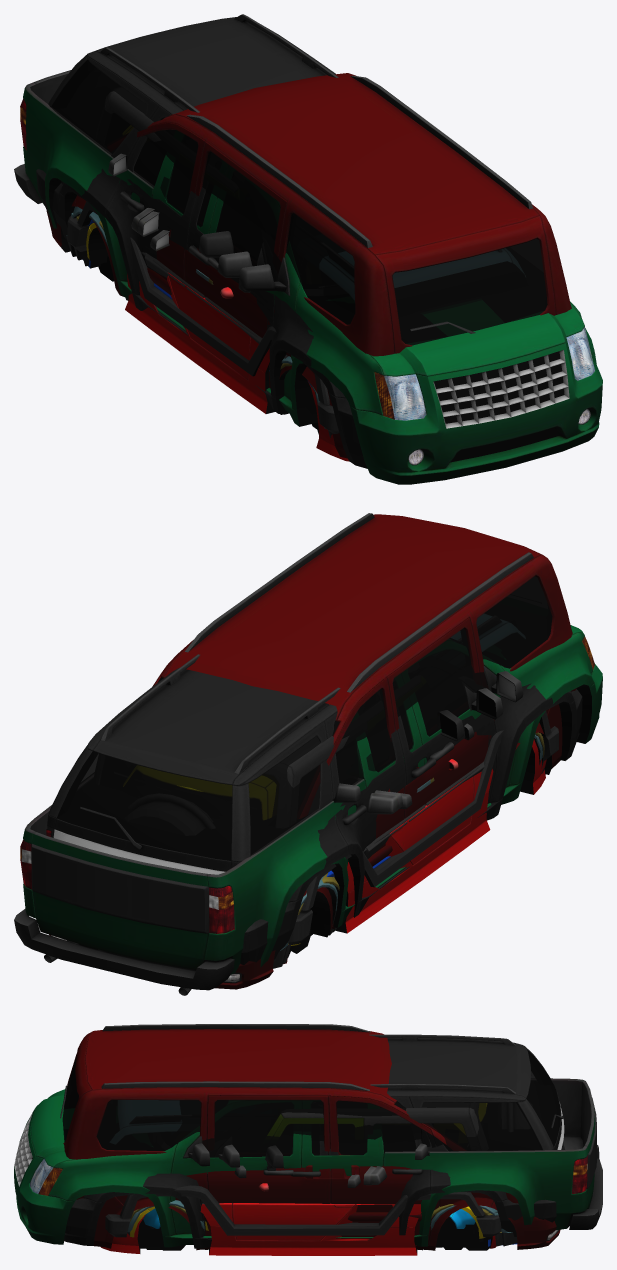
The model's file is civil_cars.glb.
The picture shows the model from 3 angles, top to bottom: view 1: azimuth 30°, elevation 25°; view 2: azimuth 150°, elevation 25°; view 3: azimuth 270°, elevation 25°; orthographic projection. The views are drawn at different scales.
Visible parts, largest first — view 1: item_3_minivan_body, item_5_Pickup_Body, item_8_SUV_Body, item_7_Sport_body, item_4_Offroad_Body, item_9_Wagon_Body, item_2_Hatchback_Body; view 2: item_3_minivan_body, item_8_SUV_Body, item_5_Pickup_Body, item_4_Offroad_Body, item_7_Sport_body, item_2_Hatchback_Body, item_9_Wagon_Body; view 3: item_3_minivan_body, item_5_Pickup_Body, item_8_SUV_Body, item_4_Offroad_Body, item_7_Sport_body, item_2_Hatchback_Body, item_9_Wagon_Body, item_0_Compact_Body, item_6_Sedan_Body.
Boxes of the visible parts, x1,y1,x2,y2 form: item_3_minivan_body: (46, 73, 571, 458); item_5_Pickup_Body: (14, 70, 602, 484); item_8_SUV_Body: (36, 14, 367, 468); item_7_Sport_body: (81, 250, 349, 461); item_4_Offroad_Body: (67, 87, 339, 433); item_9_Wagon_Body: (66, 206, 325, 428); item_2_Hatchback_Body: (86, 223, 250, 292); item_3_minivan_body: (49, 513, 576, 989); item_8_SUV_Body: (46, 654, 582, 964); item_5_Pickup_Body: (14, 625, 602, 995); item_4_Offroad_Body: (93, 710, 558, 944); item_7_Sport_body: (283, 739, 546, 964); item_2_Hatchback_Body: (124, 723, 474, 950); item_9_Wagon_Body: (272, 734, 542, 968); item_3_minivan_body: (60, 1024, 560, 1250); item_5_Pickup_Body: (14, 1078, 602, 1247); item_8_SUV_Body: (64, 1034, 564, 1249); item_4_Offroad_Body: (105, 1101, 532, 1250); item_7_Sport_body: (100, 1183, 496, 1255); item_2_Hatchback_Body: (130, 1103, 496, 1247); item_9_Wagon_Body: (127, 1166, 517, 1250); item_0_Compact_Body: (143, 1208, 475, 1228); item_6_Sedan_Body: (130, 1166, 502, 1250).
Size of the model in its own units: 2.07 by 1.6 by 5.18.
Materials: 30 (20 with a texture image).
